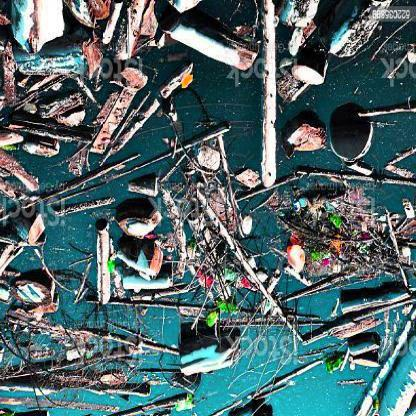Plastic: (119, 272, 173, 295)
